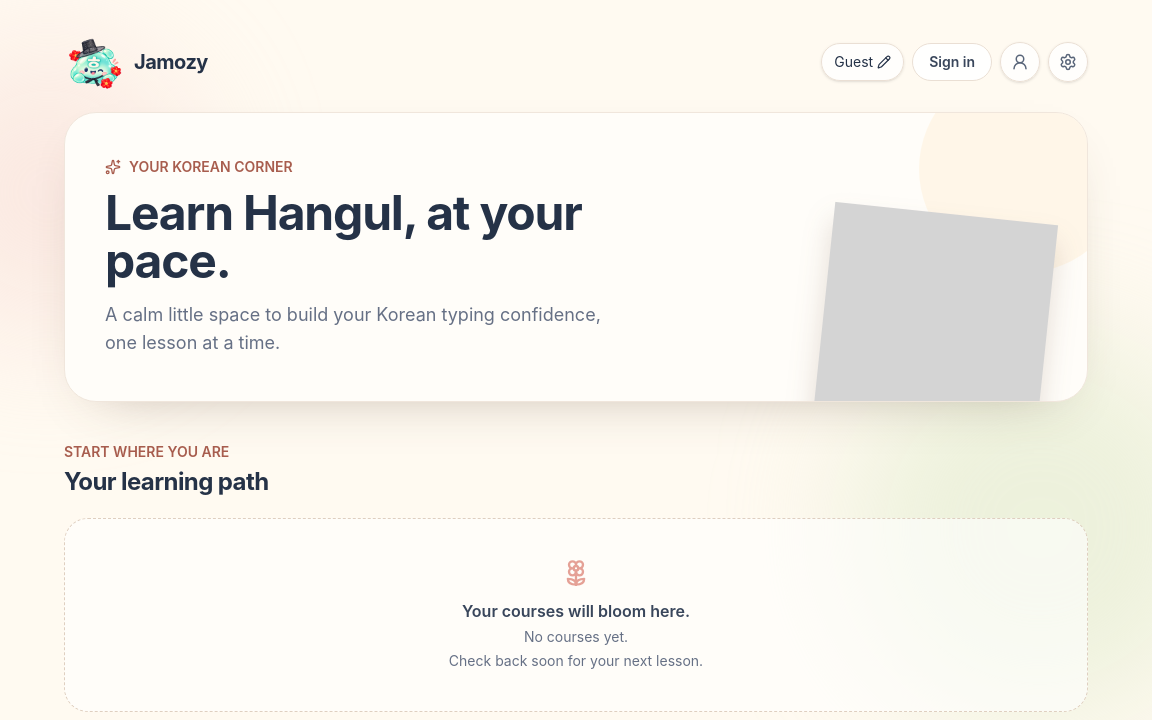
Test case: CourseListPage › opens quick settings and links to the full settings page
Click the button named "Settings".
click(1068, 62)  # box x1=1048 y1=42 x2=1088 y2=82
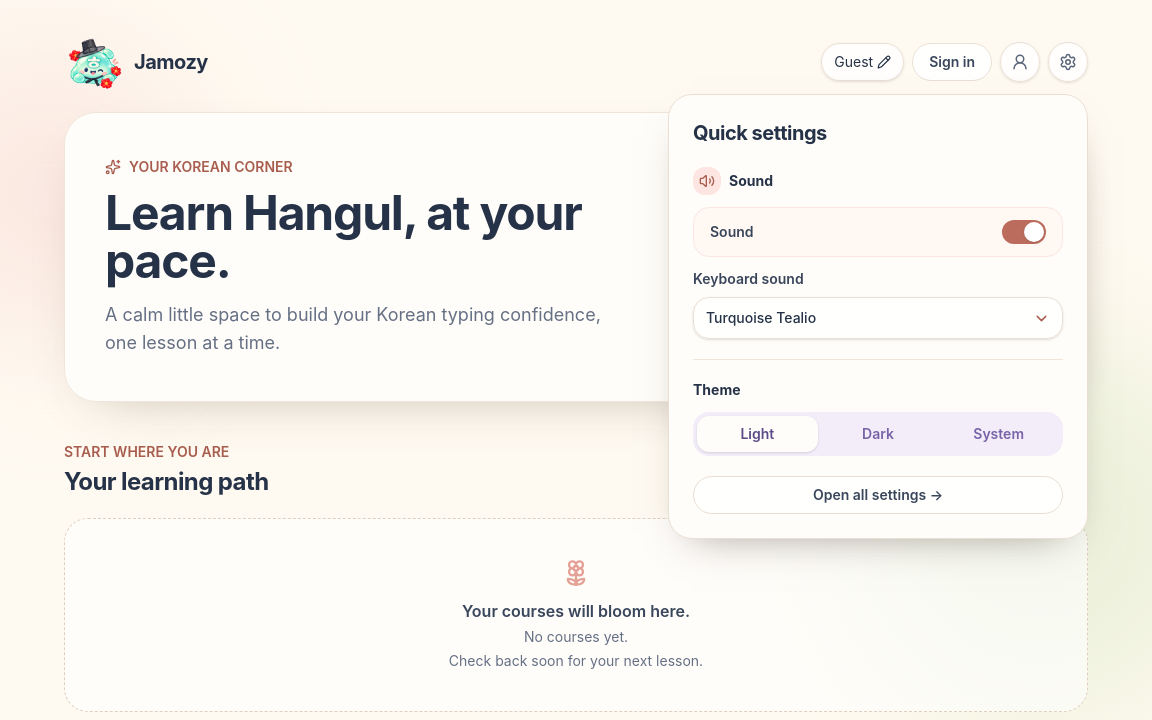
Expected: the dialog "Quick settings" is shown, x1=668 y1=94 x2=1088 y2=539
